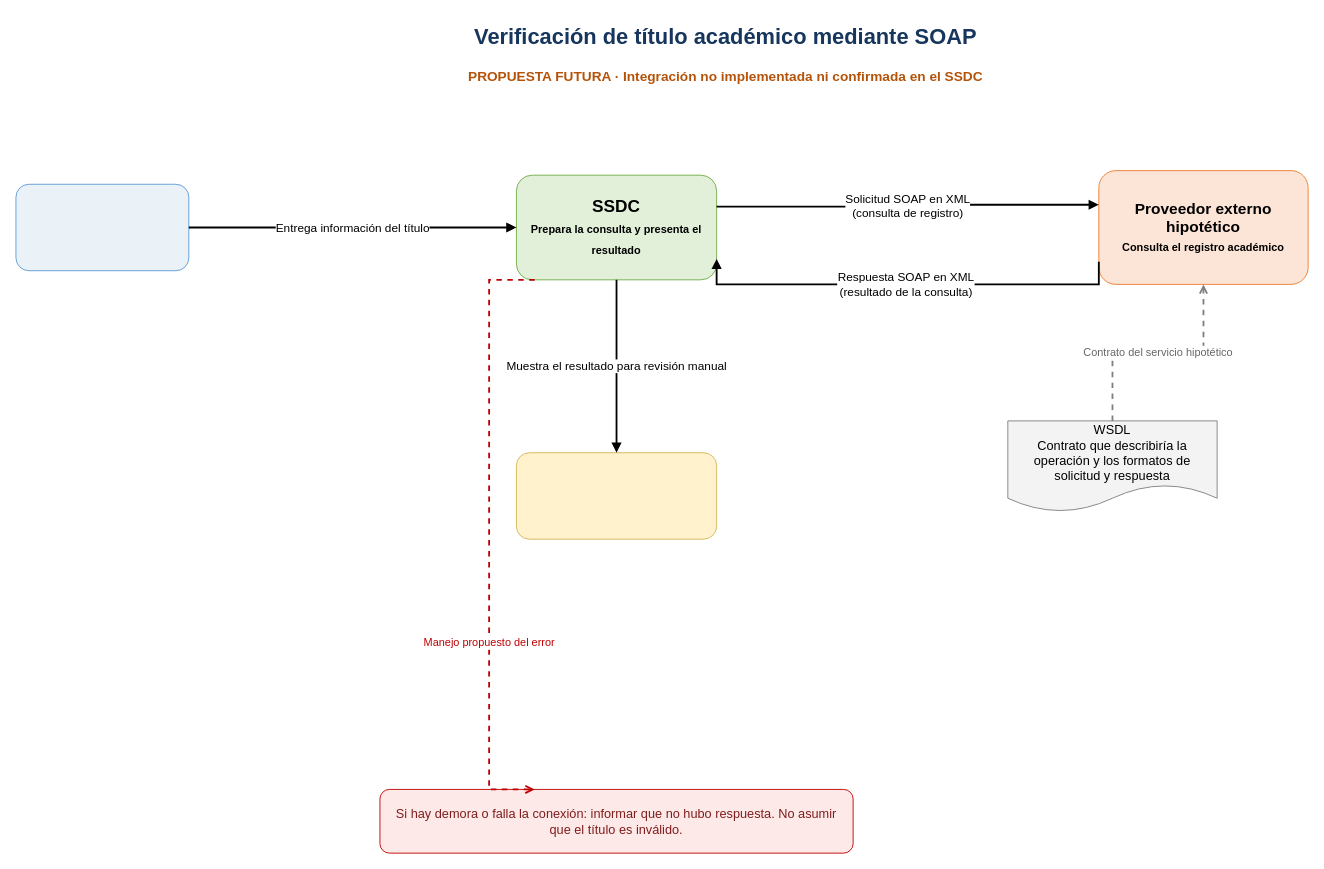
This 1324x869 diagram has some shape labels left out. Each missing label, with the box of its shape:
Postulante Entrega información del título: (15, 183, 189, 271)
Revisor del proceso Usa el resultado como apoyo para revisar el documento: (516, 452, 717, 539)
